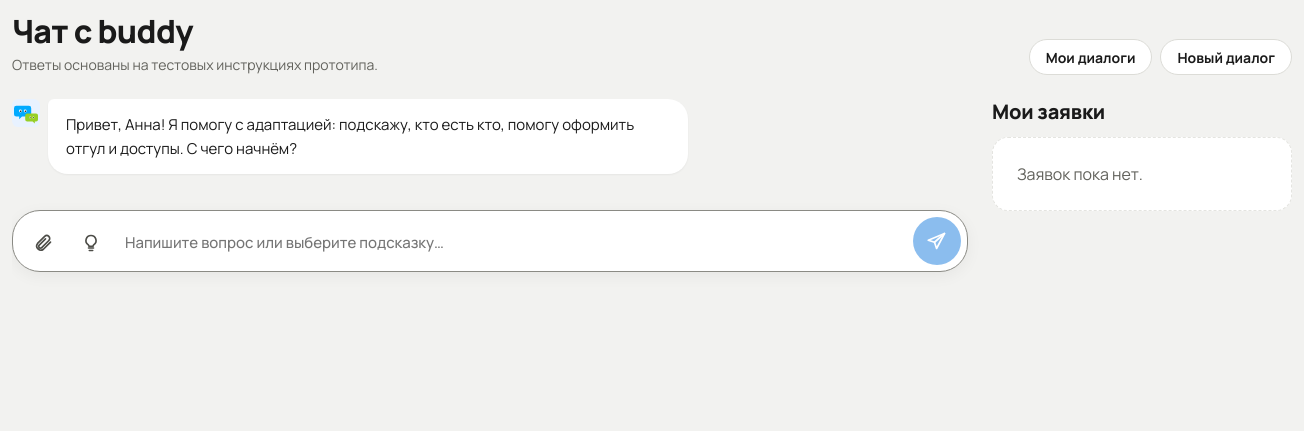
Test: S3 day off flow › R66: a missing stored session (404) starts a new one; "Новый диалог" clears the chat
This screenshot has width=1304, height=431.
Expected: the text "Привет, Анна" is shown, [48,99,688,174]
In the dropdown named "Сообщение": (513, 243) [117,222,909,265], type "привет"
Then press Enter
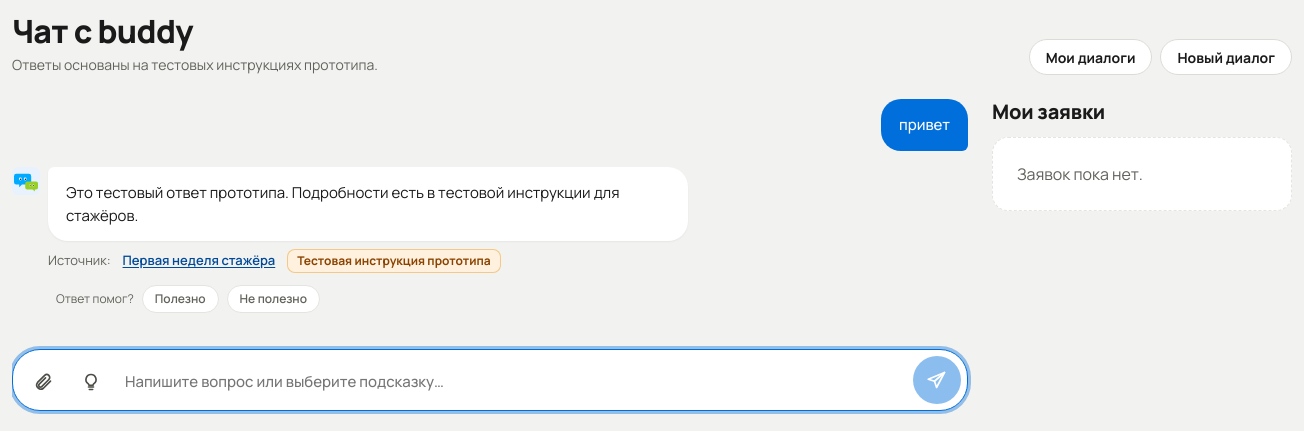
Result: the text "тестовый ответ прототипа" is shown at [66,182,620,226]
Click the button "Новый диалог": (1226, 57) [1160,39,1292,75]
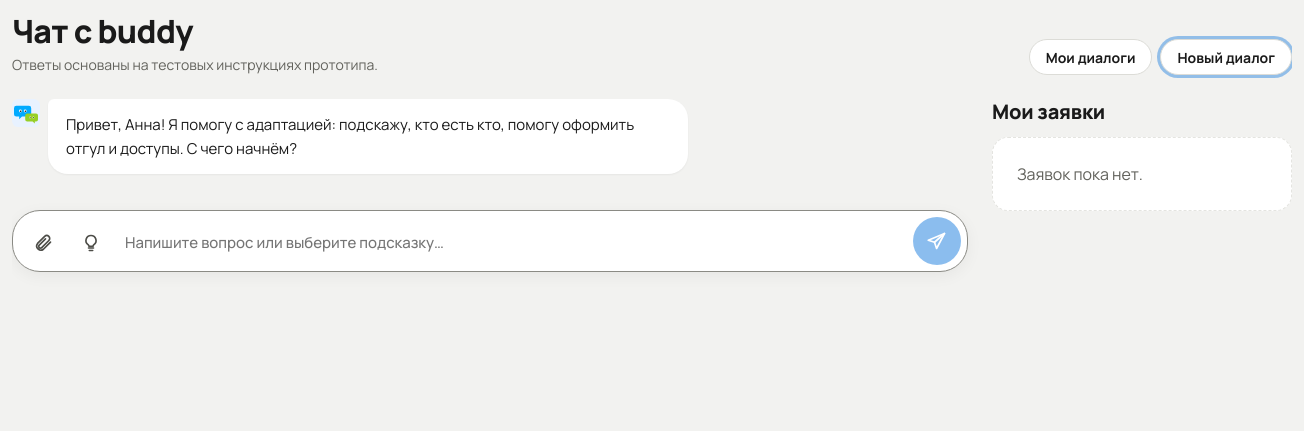
Result: the text "Привет, Анна" is shown at [48,99,688,174]
